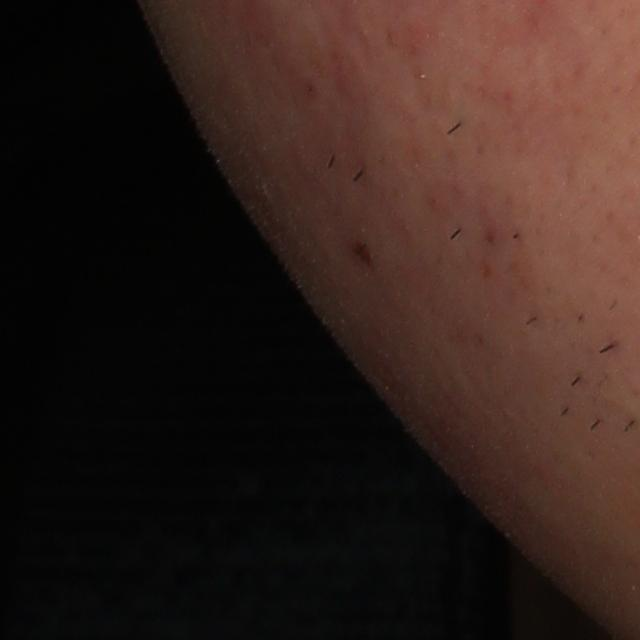nevus: (345, 238, 374, 272)
